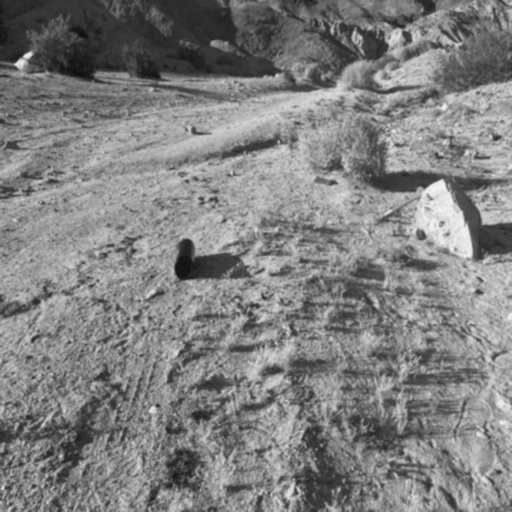bottle: (174, 238, 196, 280), (183, 118, 202, 139)
mallet: (376, 180, 428, 228)
